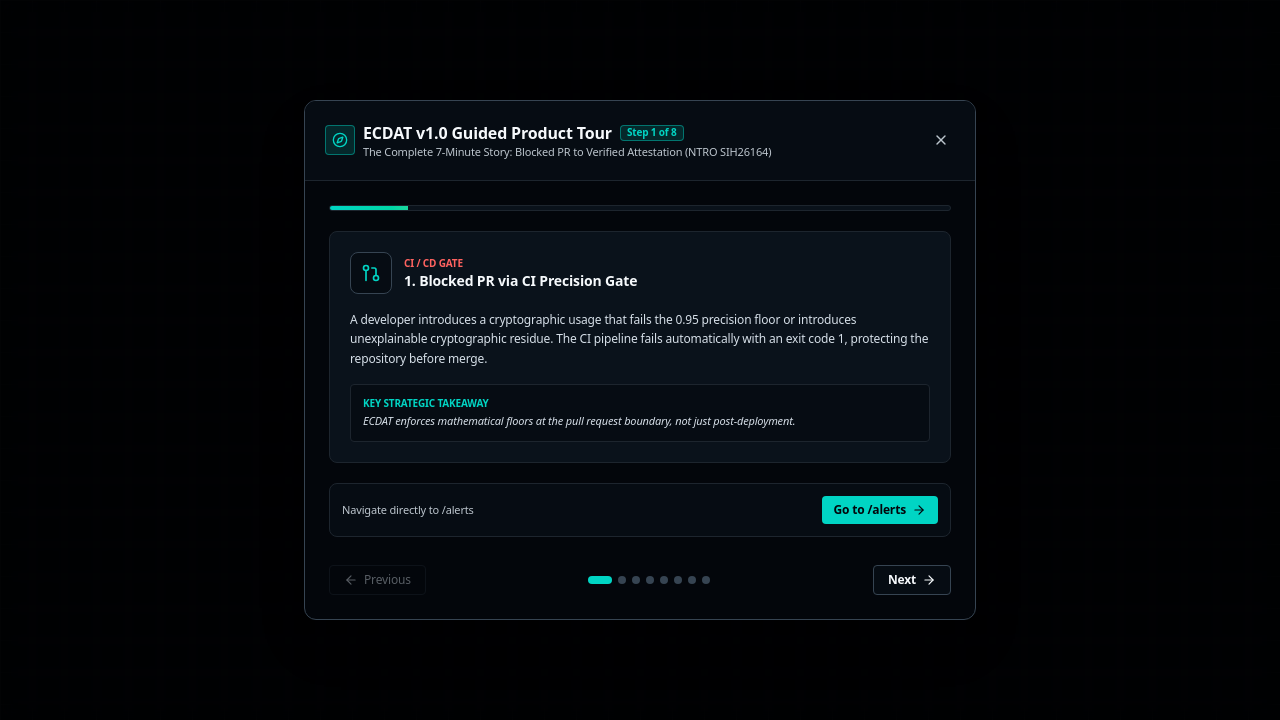
Test case: SCR-02 Ext: DemoTourModal (M6 Demo Mode v3) › renders step 1 and navigates through tour steps
This screenshot has width=1280, height=720.
Check: the heading "ECDAT v1.0 Guided Product Tour" is shown, box [363,121,612,145]
Check: the text "Step 1 of 8" is shown, box [620,125,684,141]
Click Next
Click the button "Next" at (912, 580), box [873,565,951,595]
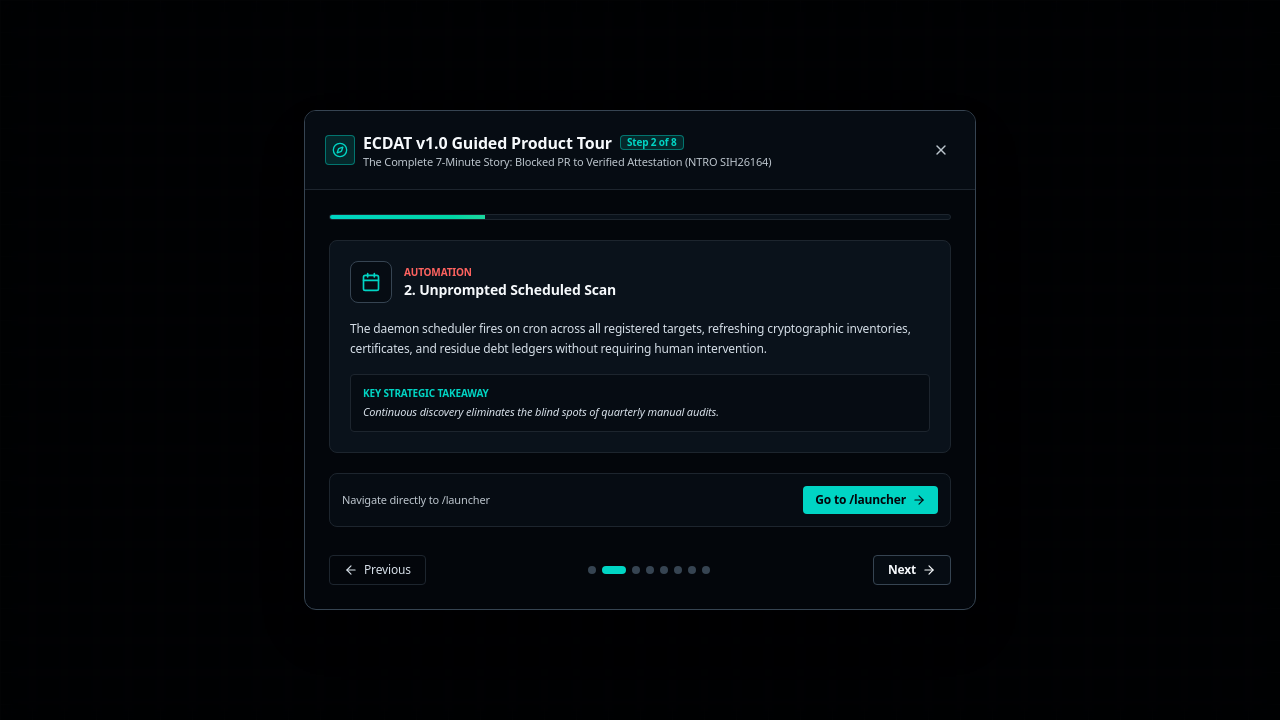
Check: the text "Step 2 of 8" is shown, box [620,135,684,150]
Check: the heading "2. Unprompted Scheduled Scan" is shown, box [404,280,616,300]
Click Previous
Click the button "Previous" at (377, 570), box [329,555,426,585]
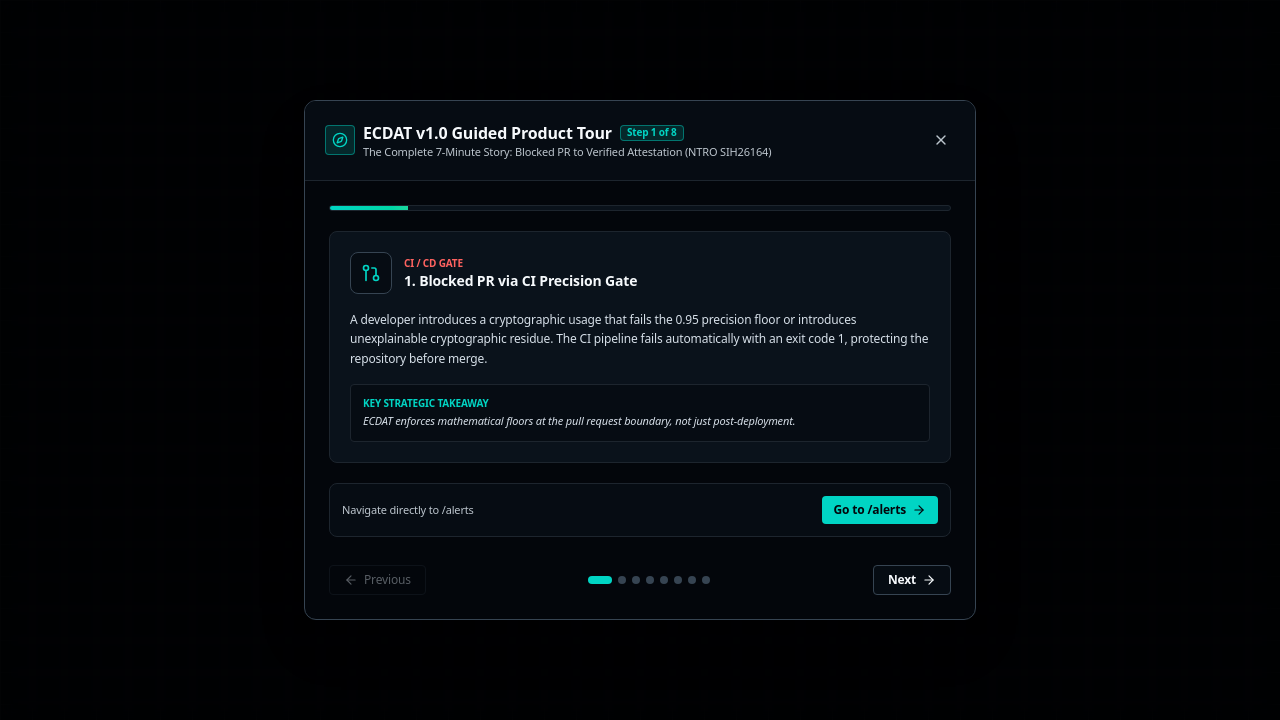
Check: the text "Step 1 of 8" is shown, box [620,125,684,141]
